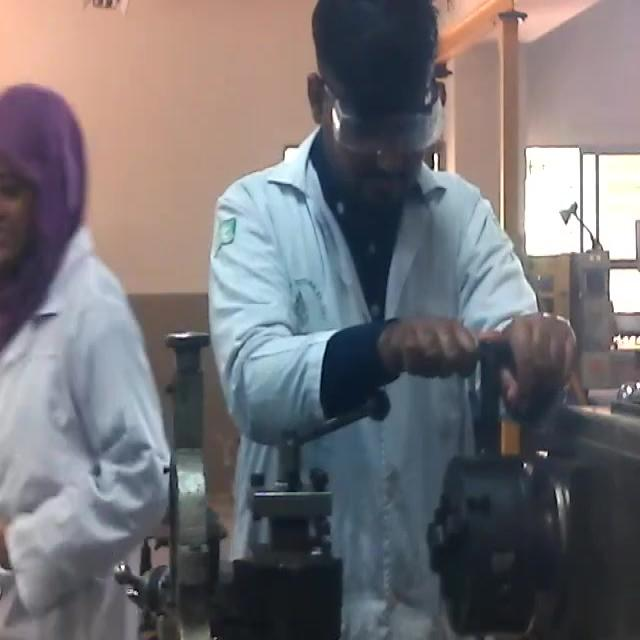googles: (331, 97, 444, 158)
labcoat: (205, 124, 540, 640), (0, 224, 171, 640)
